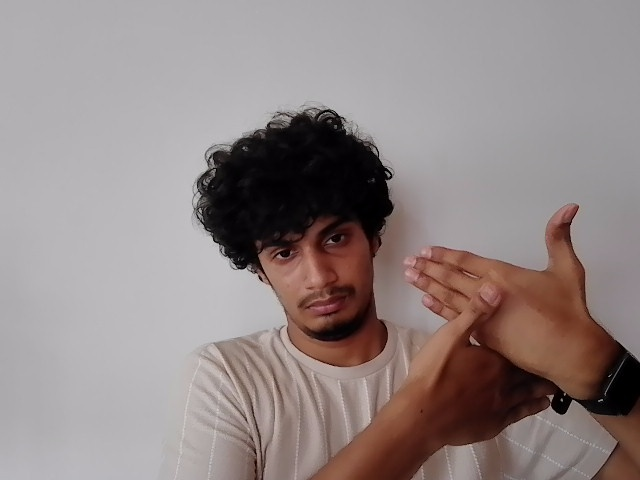work: (393, 192, 602, 434)
